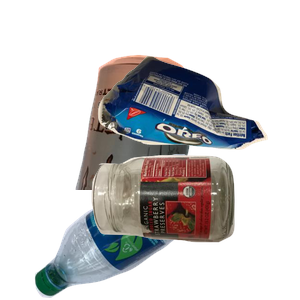glass: (89, 153, 300, 300)
metal: (73, 52, 263, 232)
plastic: (32, 154, 242, 300)
trash: (95, 53, 300, 195)
